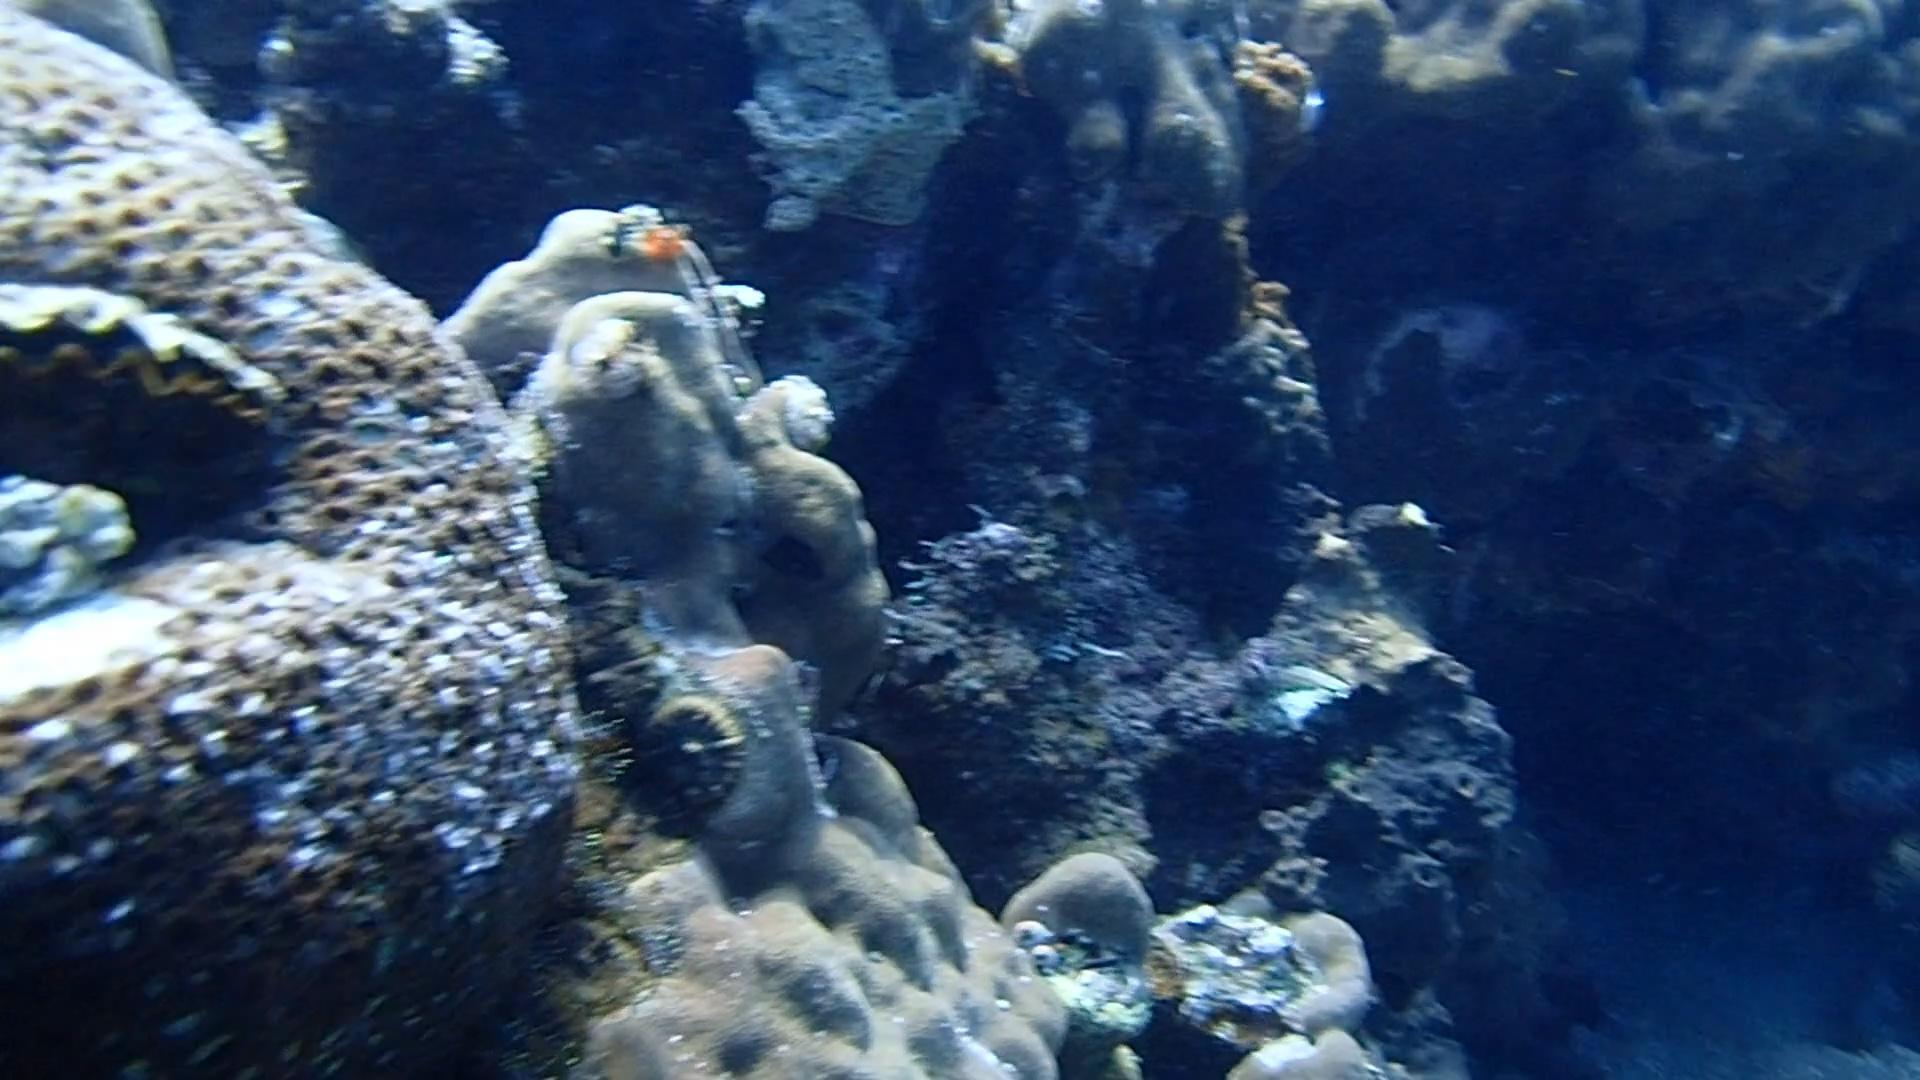Dark Fish: (868, 629, 980, 716), (750, 522, 833, 591)
